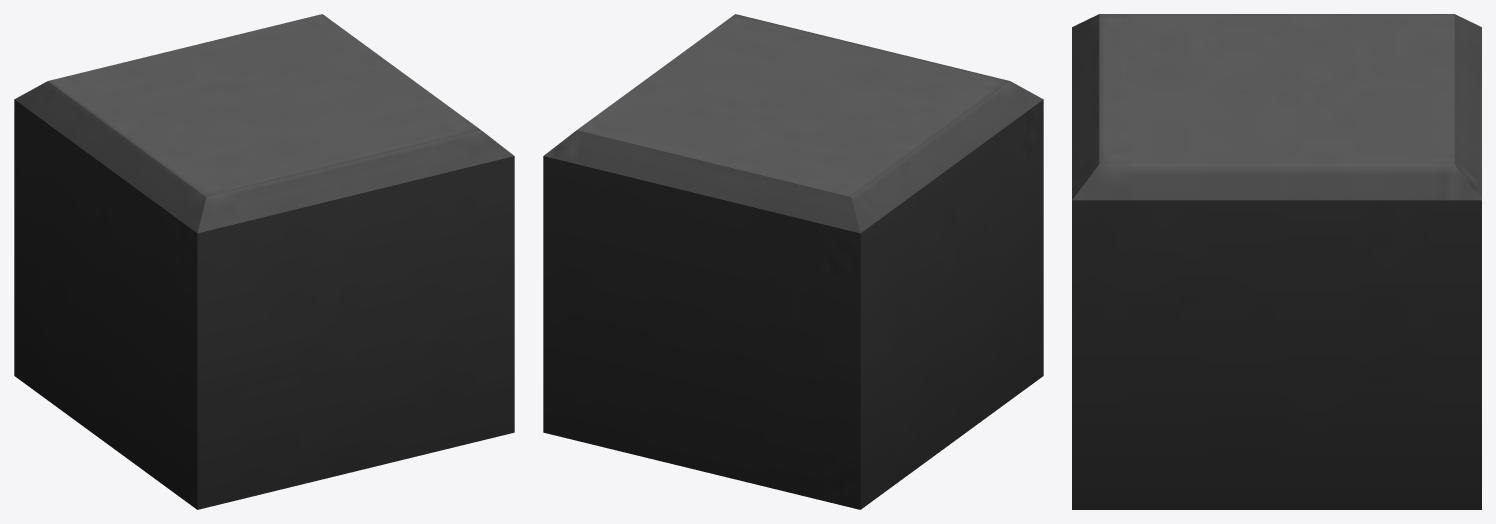
Rendered from solid-fuel.glb.
3 renders of one model, left to right at view 1: azimuth 30°, elevation 25°; view 2: azimuth 150°, elevation 25°; view 3: azimuth 270°, elevation 25°, orthographic. The views are drawn at different scales.
Visible parts, largest first — view 1: solid-fuel; view 2: solid-fuel; view 3: solid-fuel.
Part boxes in pixels (left/top/right/bottom): solid-fuel: left=14, top=14, right=514, bottom=509; solid-fuel: left=543, top=14, right=1043, bottom=509; solid-fuel: left=1072, top=14, right=1481, bottom=509.
Size of the model in its own units: 0.18 by 0.162 by 0.18.
1 material, 1 textured.
